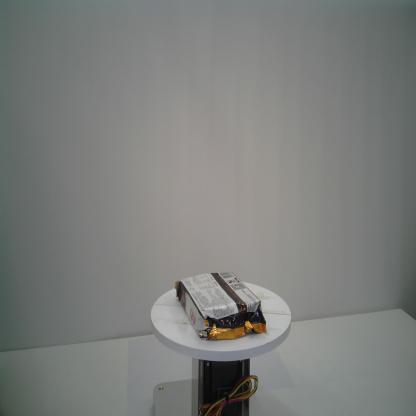Dessert: (173, 268, 269, 343)
